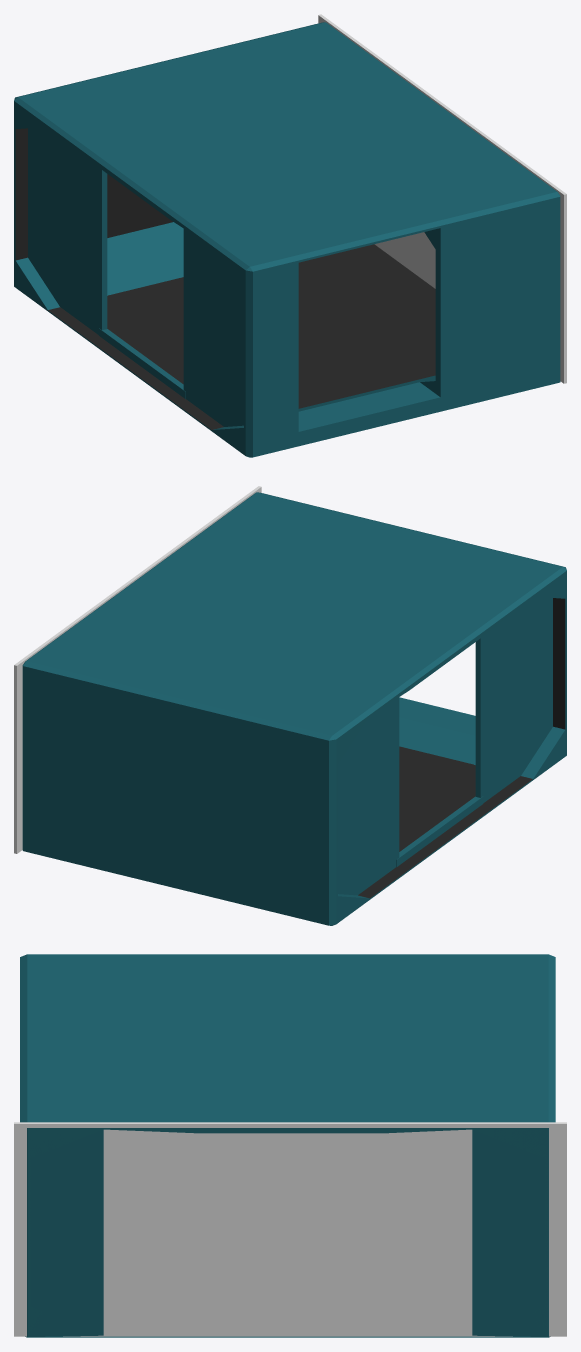
The model's file is IDK.fbx.
3 renders of one model, top to bottom at view 1: azimuth 30°, elevation 25°; view 2: azimuth 150°, elevation 25°; view 3: azimuth 270°, elevation 25°, orthographic. The views are drawn at different scales.
Parts seen in each view (by area): view 1: Cube.001, Cube; view 2: Cube.001, Cube; view 3: Cube.001, Cube.
Part boxes in pixels (x1=…): Cube.001: x1=14, y1=22, x2=560, y2=457; Cube: x1=318, y1=14, x2=566, y2=383; Cube.001: x1=22, y1=492, x2=566, y2=925; Cube: x1=14, y1=486, x2=261, y2=853; Cube.001: x1=20, y1=954, x2=555, y2=1337; Cube: x1=14, y1=1122, x2=566, y2=1336.
Size of the model in its own units: 1527 by 887 by 2058.
